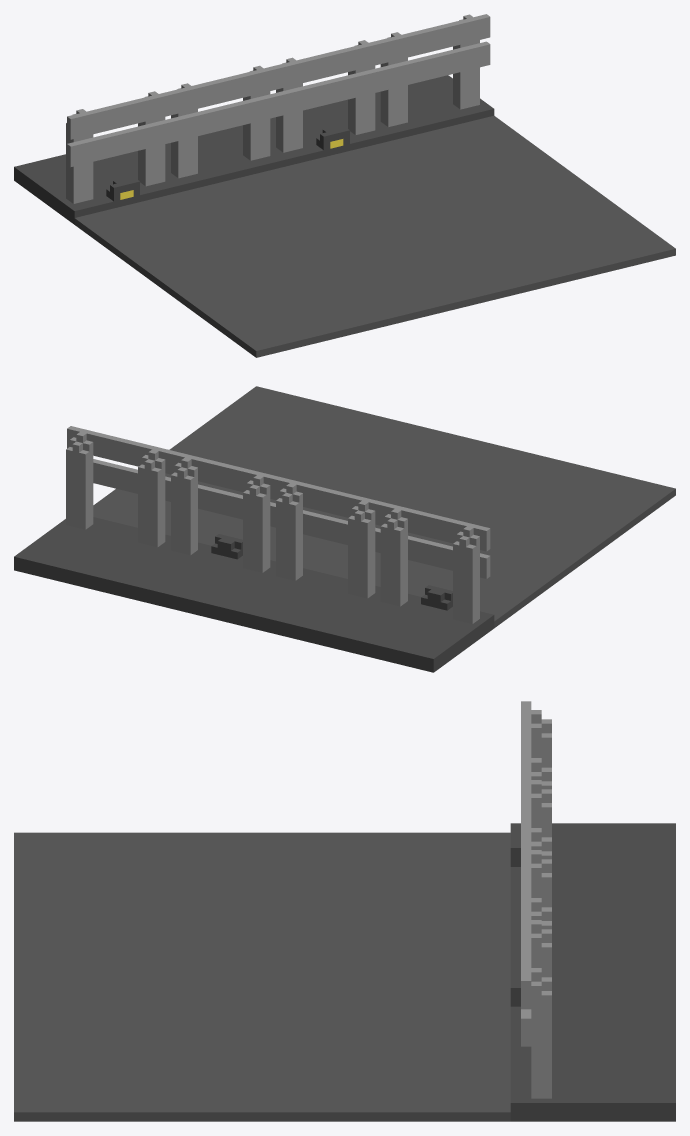
The model's file is MapWIP_v02-47.obj.
3 views of the same model, one above another, from view 1: azimuth 30°, elevation 25°; view 2: azimuth 150°, elevation 25°; view 3: azimuth 270°, elevation 25° (orthographic). The views are drawn at different scales.
Size of the model in its own units: 6.4 by 1.5 by 6.4.
1 material, 1 textured.
